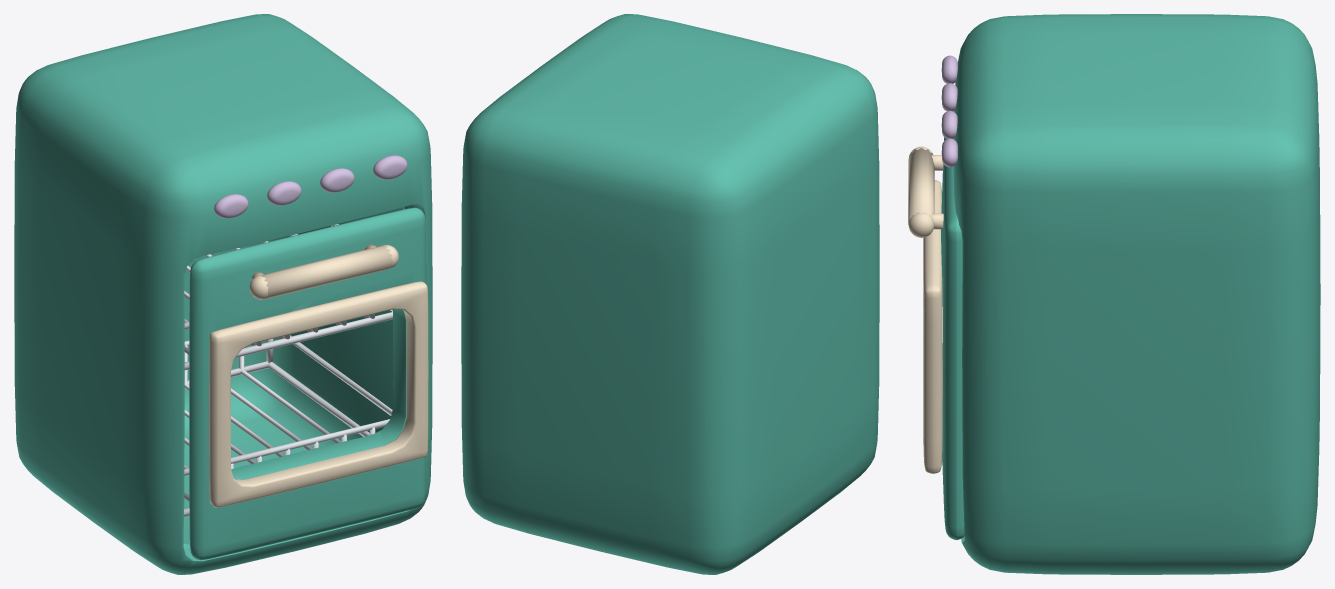
Rendered from dishwasher_b.glb.
3 renders of one model, left to right at view 1: azimuth 30°, elevation 25°; view 2: azimuth 150°, elevation 25°; view 3: azimuth 270°, elevation 25°, orthographic. The views are drawn at different scales.
Visible parts, largest first — view 1: body, door; view 2: body; view 3: body, door.
Part boxes in pixels (x1,y1,x2,y2): body: [14, 14, 432, 574]; door: [189, 207, 428, 560]; body: [461, 14, 879, 574]; body: [941, 14, 1320, 574]; door: [908, 111, 964, 540].
Size of the model in its own units: 0.6 by 0.84 by 0.694.
